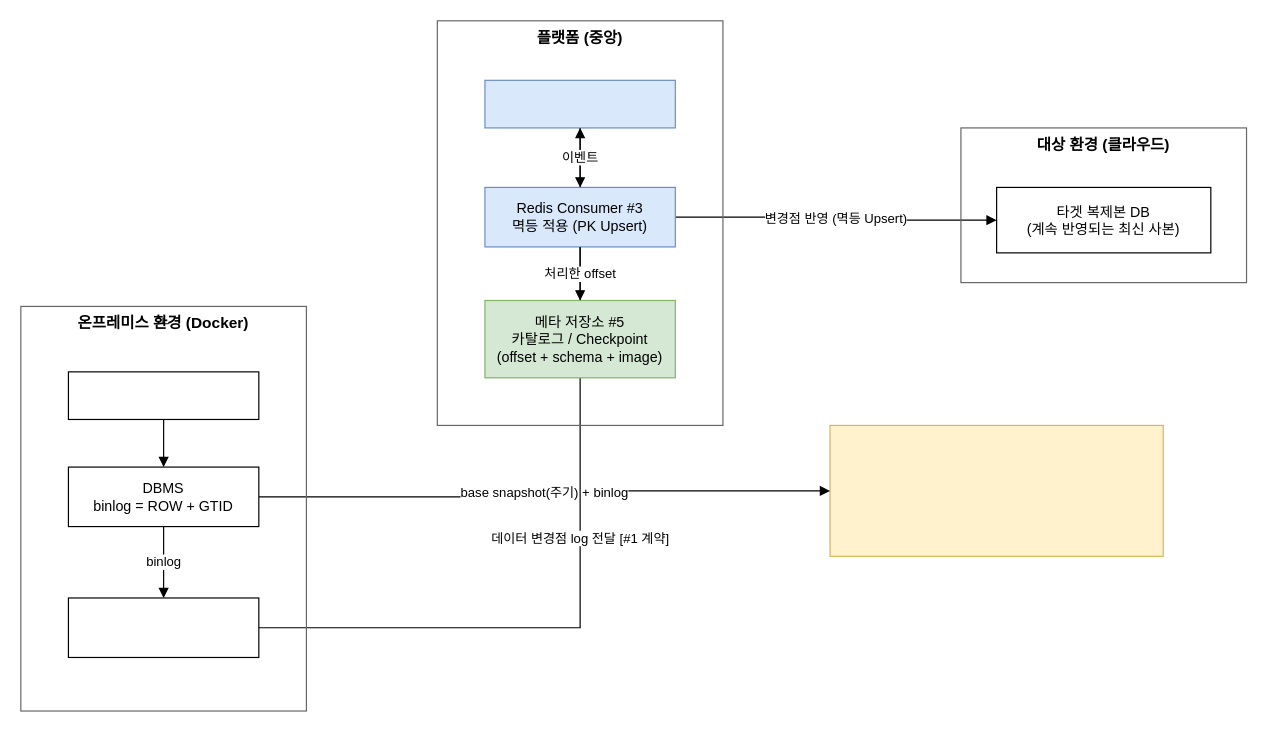
The diagram is 1267 pixels wide and 732 high, and some of its shapes have lost their labels. The shapes that lost their labels are listed below. From the top down, each one's centre as x and y in pixels, then its label:
the point at 579,103: Redis Stream (전송만, 백업본 아님)
the point at 163,395: 서비스
the point at 996,490: 백업 저장소 #4 Object Storage / MinIO (S3 호환) base snapshot(주기) + 연속 binlog
the point at 163,627: Redis Producer #2 (자동 추가)
